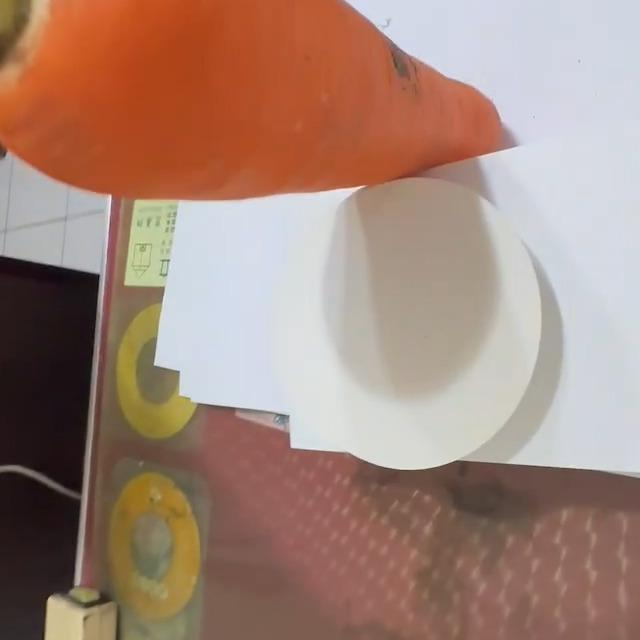carrot: (1, 1, 506, 204)
